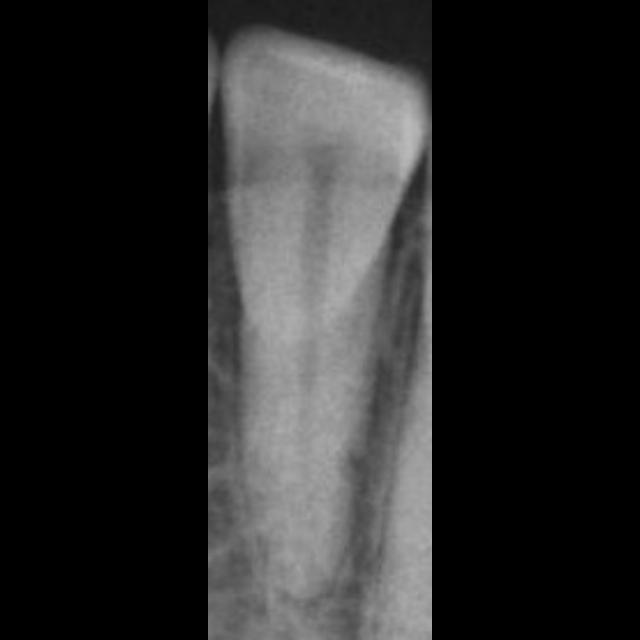tooth: (243, 92, 407, 585)
